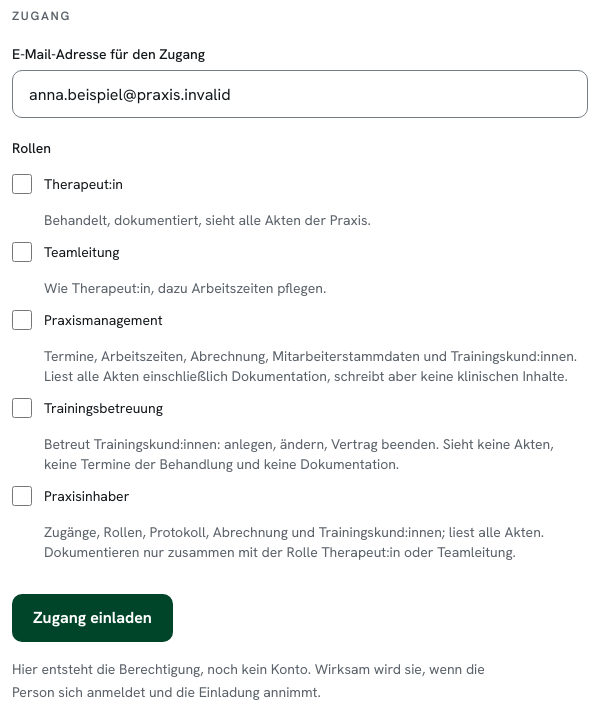
Scenario: StaffAccountSection › verlangt mindestens eine Rolle - am Feld (ORG-15)
This screenshot has width=605, height=707.
Click the button "Zugang einladen" at [92, 618], box [12,594,173,642]
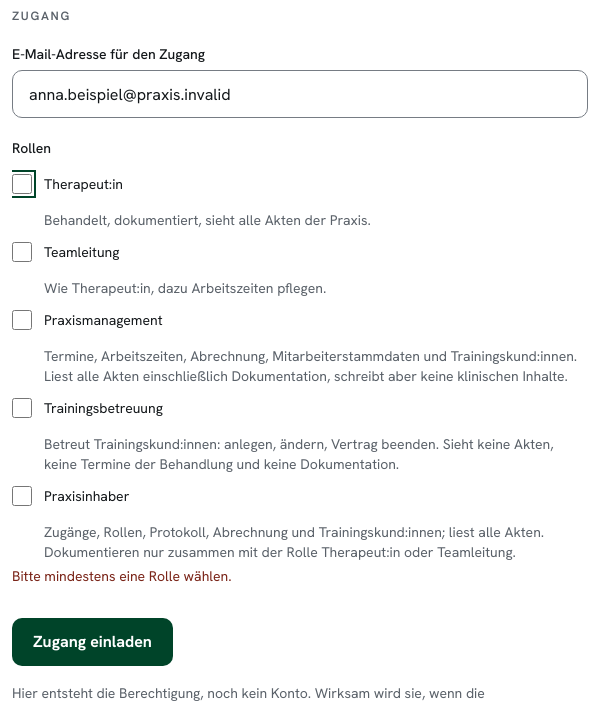
Check: the text "Bitte mindestens eine Rolle wählen." is shown, box [12,567,232,585]
